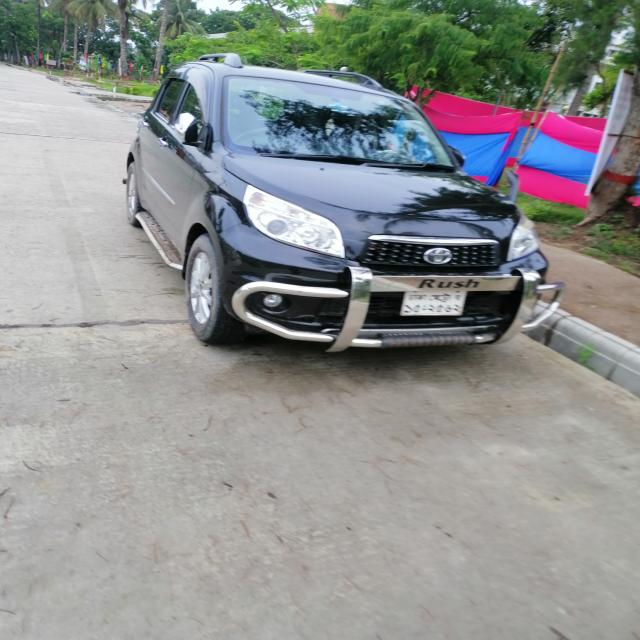Zeep: (122, 60, 568, 359)
